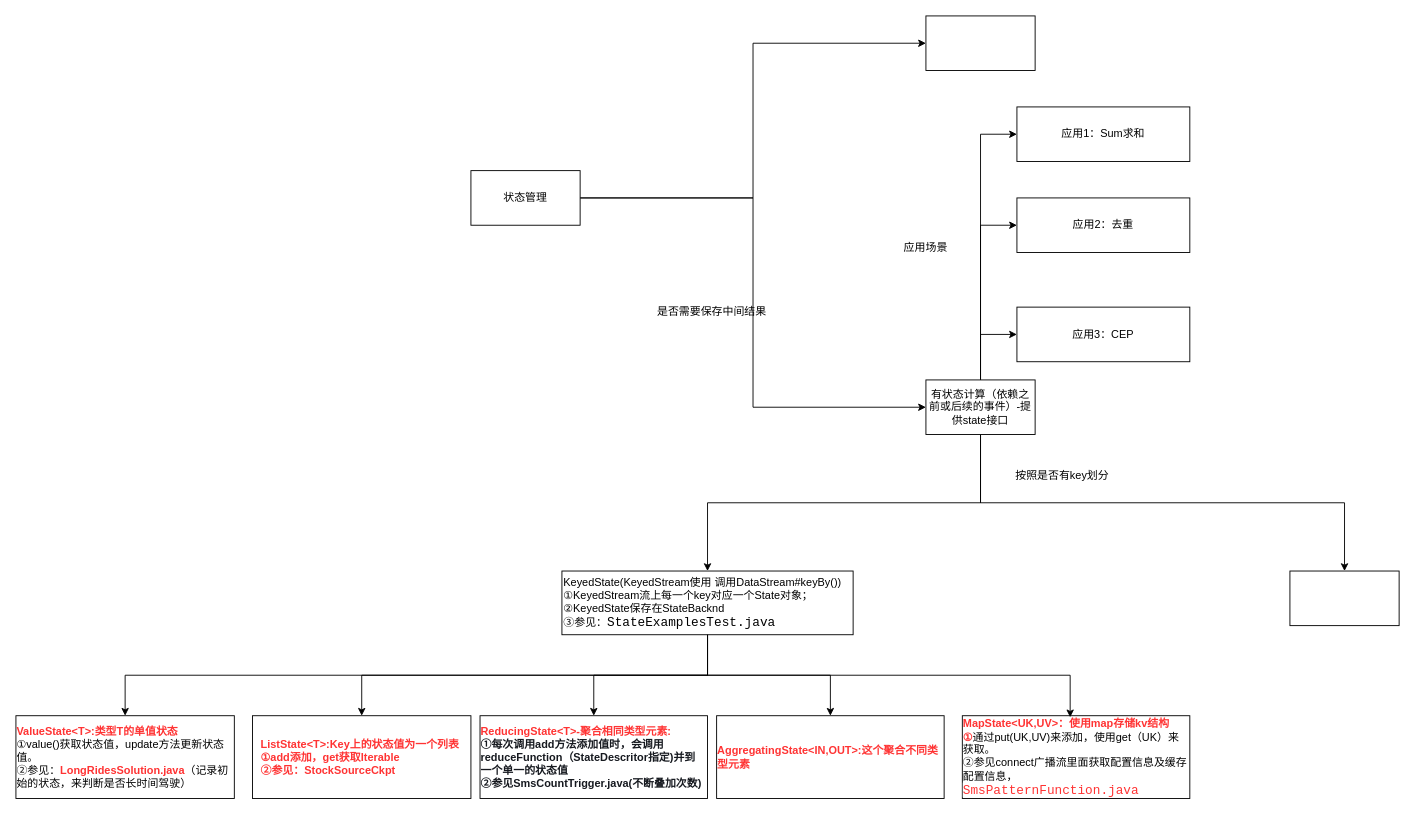
Image size: 1415x814. Some labels were removed from this diagram. The box of each missing label's shape, as (x1, y1, x2, y2) in pixels:
OperatorState: (1289, 570, 1399, 626)
无状态计算（不依赖上下游事件）: (925, 15, 1035, 71)
